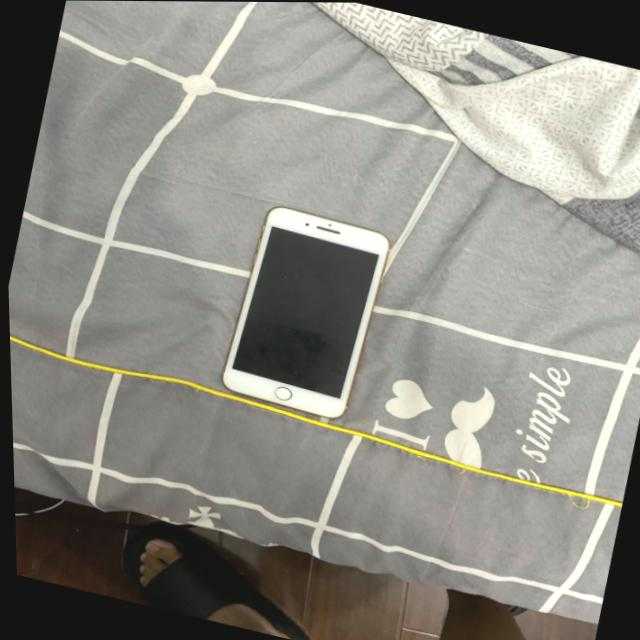Smartphone: (194, 194, 407, 427)
